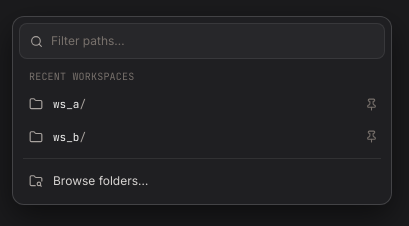
OpenWorkspaceMenu › filter narrows the recent list
The width and height of the screenshot is (409, 226).
Type "ws_b" into the field with placeholder "Filter paths…" at x=212, y=41, box [51, 32, 374, 50]
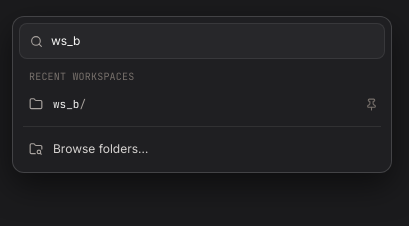
Check: the text "/ws_b" is shown, box [53, 97, 86, 111]
Check: the text "/ws_a" is gone
